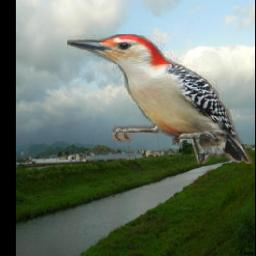Woodpecker: (67, 35, 252, 165)
